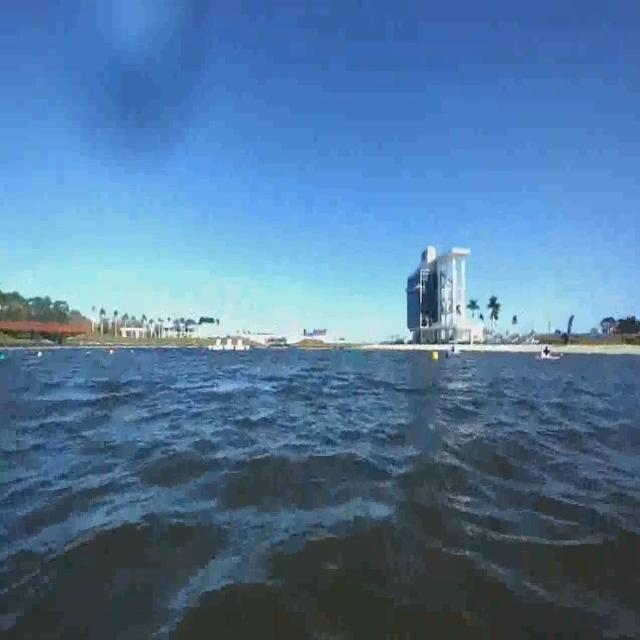yellow-buoy: (432, 350, 439, 362)
